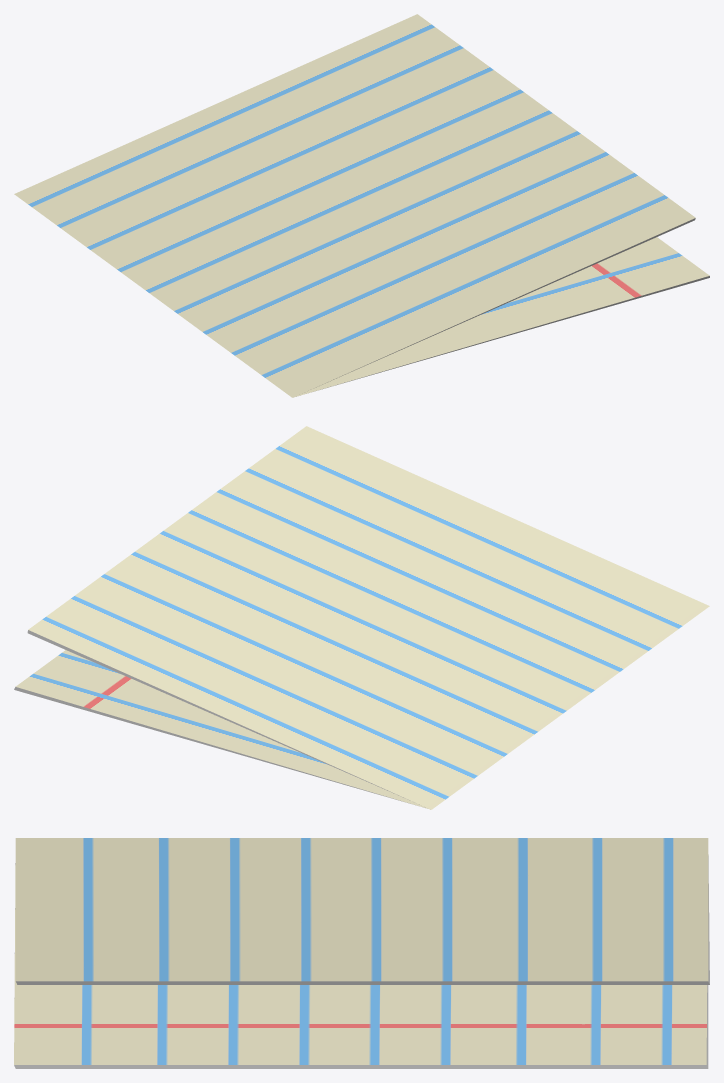
The model's file is note.fbx.
3 views of the same model, one above another, from view 1: azimuth 30°, elevation 25°; view 2: azimuth 150°, elevation 25°; view 3: azimuth 270°, elevation 25° (orthographic). The views are drawn at different scales.
Visible parts, largest first — view 1: pPlane2; view 2: pPlane2; view 3: pPlane2.
Boxes of the visible parts, x1=… form: pPlane2: x1=14, y1=14, x2=709, y2=397; pPlane2: x1=14, y1=426, x2=709, y2=809; pPlane2: x1=14, y1=838, x2=709, y2=1068.
Size of the model in its own units: 6.06 by 1.13 by 7.03.
